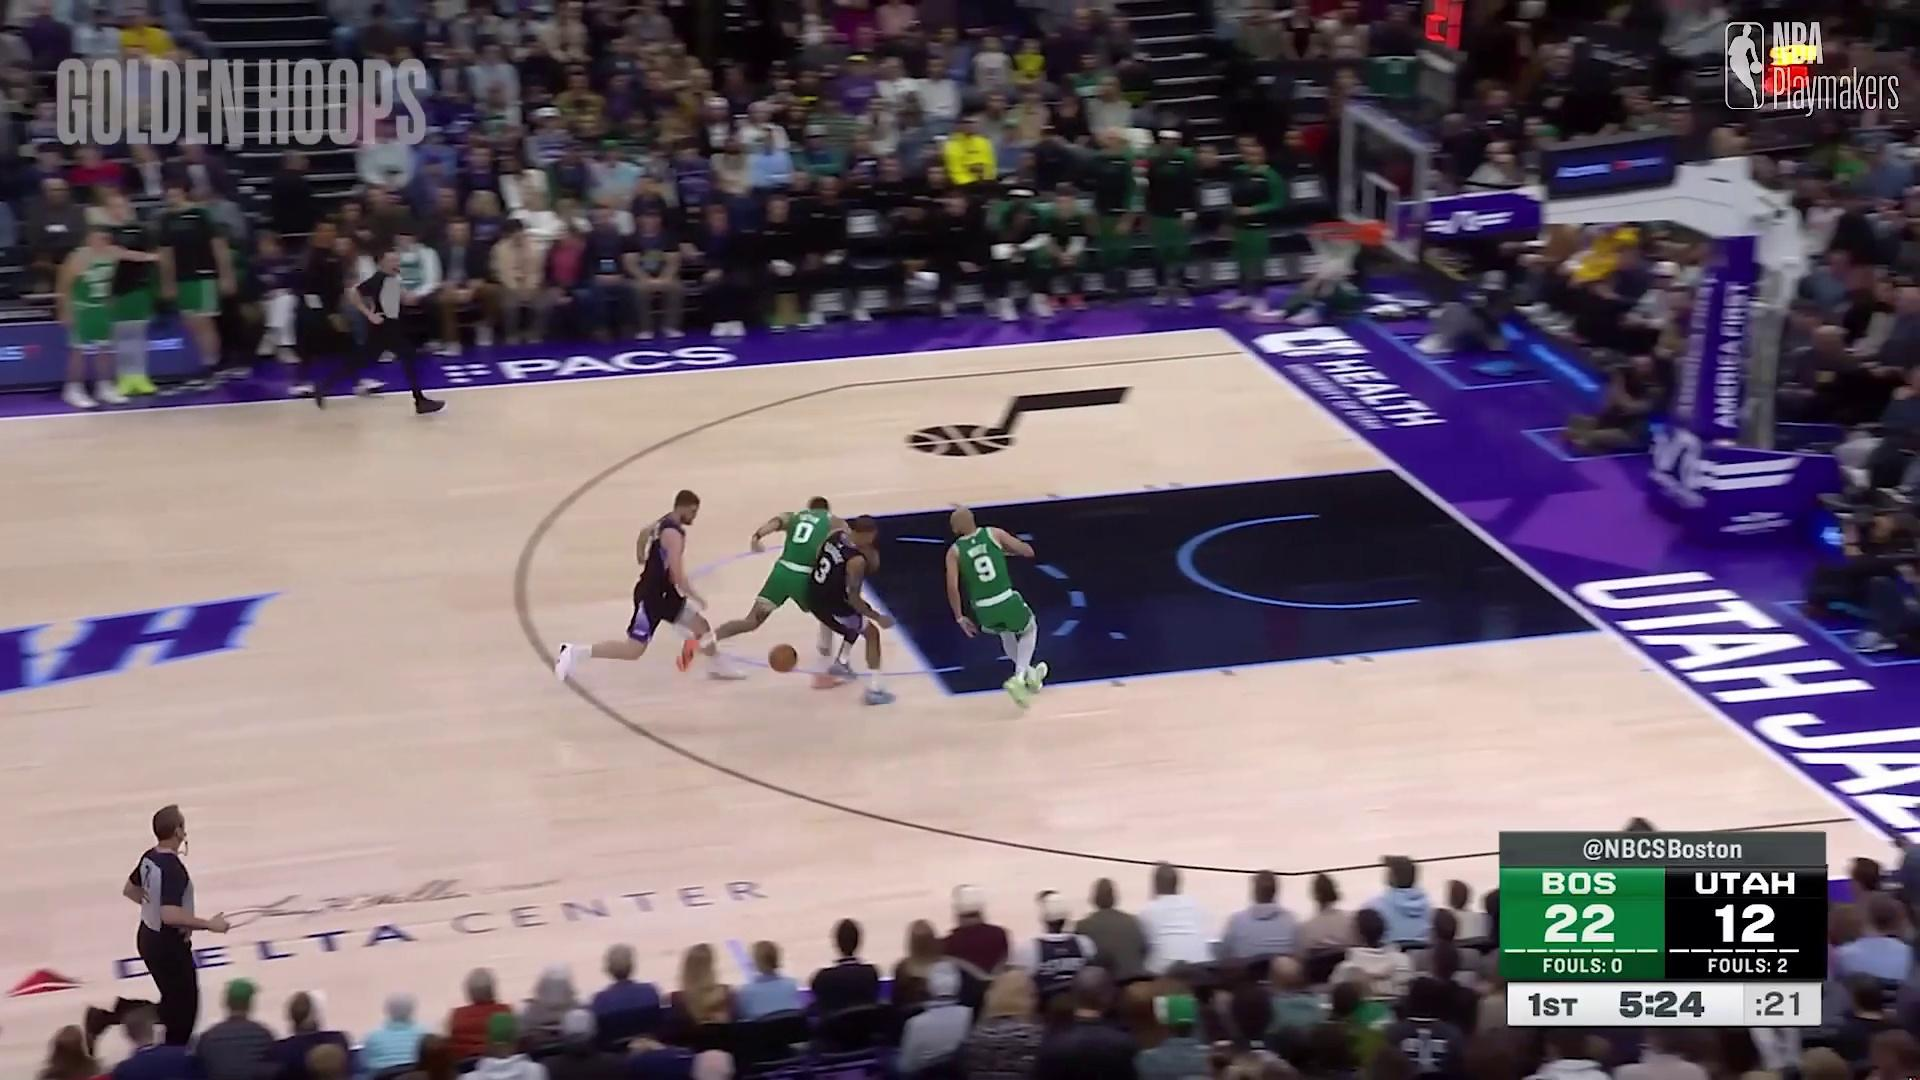ball: (764, 633, 800, 678)
hoop: (1312, 215, 1366, 297)
